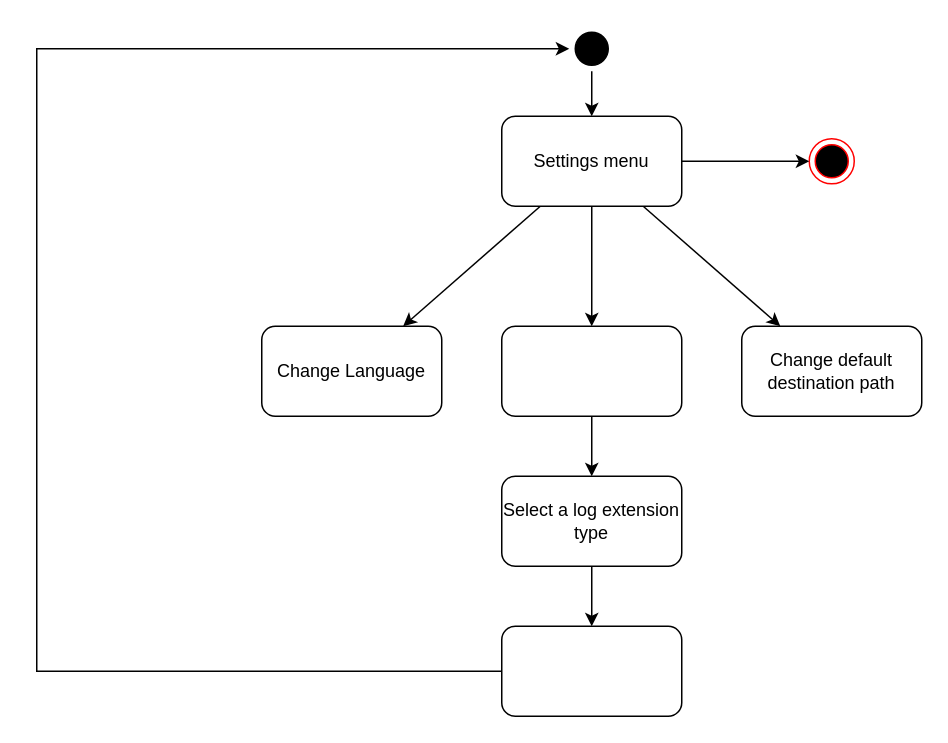
Some shapes in this 948 by 743 pixel diagram are drawn without their labels. Here are the shapes that lost their labels. From the top down, the centre of each, then its label:
the point at 591,370: Change logs extension type
the point at 591,670: log extension type changed
